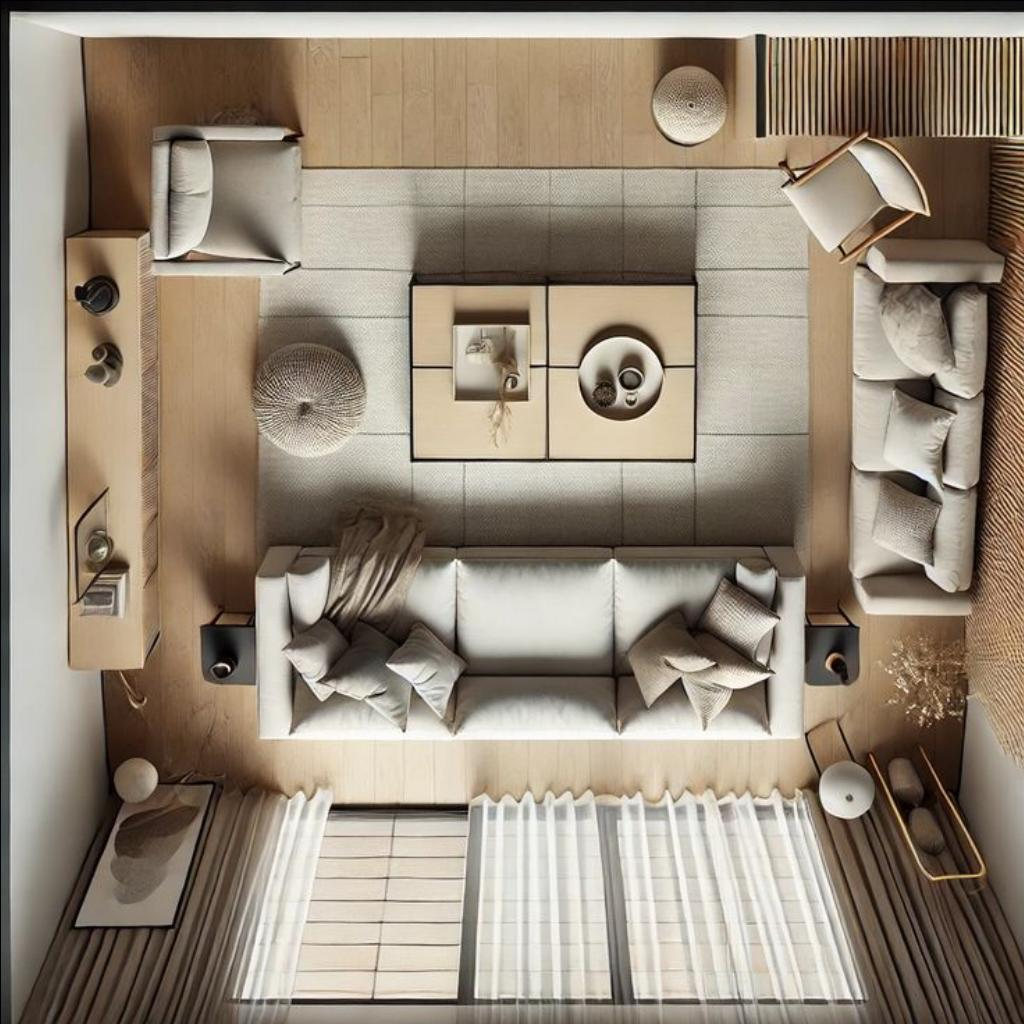chair: (151, 118, 303, 278), (777, 123, 931, 239)
coffee table: (546, 278, 698, 456), (410, 275, 550, 457)
floor lamp: (817, 759, 873, 819)
floor vase: (110, 754, 160, 800)
ottoman: (253, 341, 367, 457), (648, 65, 730, 147)
rug: (258, 163, 812, 539)
shelves: (878, 752, 986, 880)
side table: (806, 622, 862, 686), (198, 621, 252, 685)
sideboard: (64, 236, 140, 666)
sofa: (256, 544, 800, 738), (853, 252, 1001, 612)
window: (232, 971, 458, 999), (635, 973, 863, 999), (462, 973, 628, 1001)
